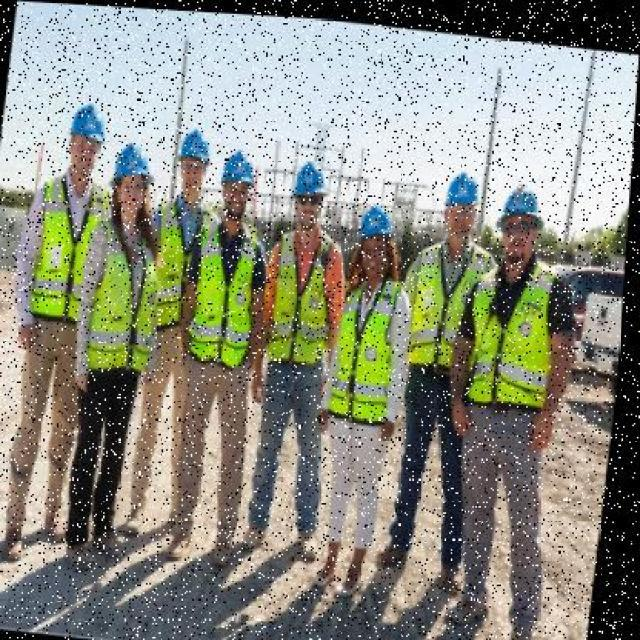helmet: (491, 174, 553, 235), (106, 137, 160, 199), (288, 153, 336, 212), (437, 166, 489, 218), (218, 140, 266, 196), (171, 120, 220, 174), (354, 200, 402, 250), (65, 96, 111, 147)
vest: (469, 268, 563, 403), (94, 222, 168, 373), (32, 179, 108, 321), (408, 240, 485, 364), (337, 277, 405, 415), (192, 225, 260, 360), (271, 228, 339, 360)
